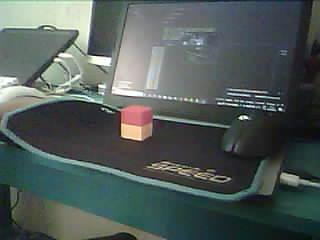lego: (121, 104, 153, 141)
